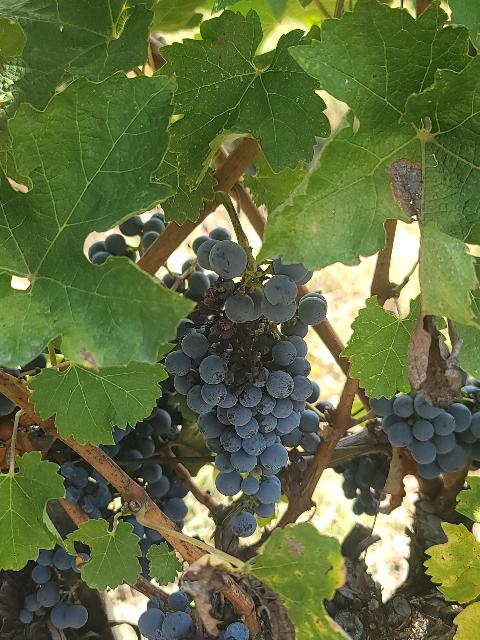grapes: (165, 240, 328, 538), (370, 394, 480, 479)
